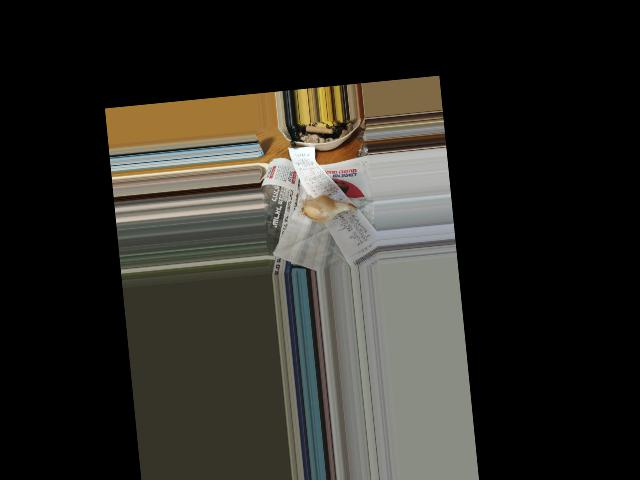onion: (302, 194, 339, 221)
